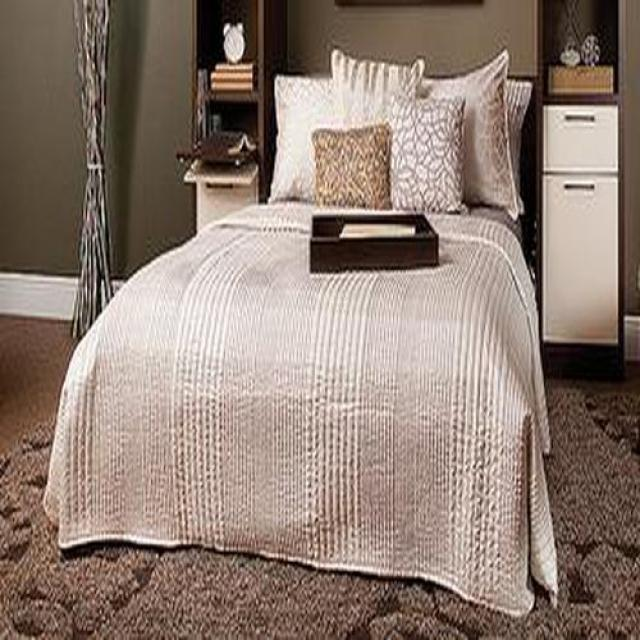bed: (41, 51, 561, 620)
